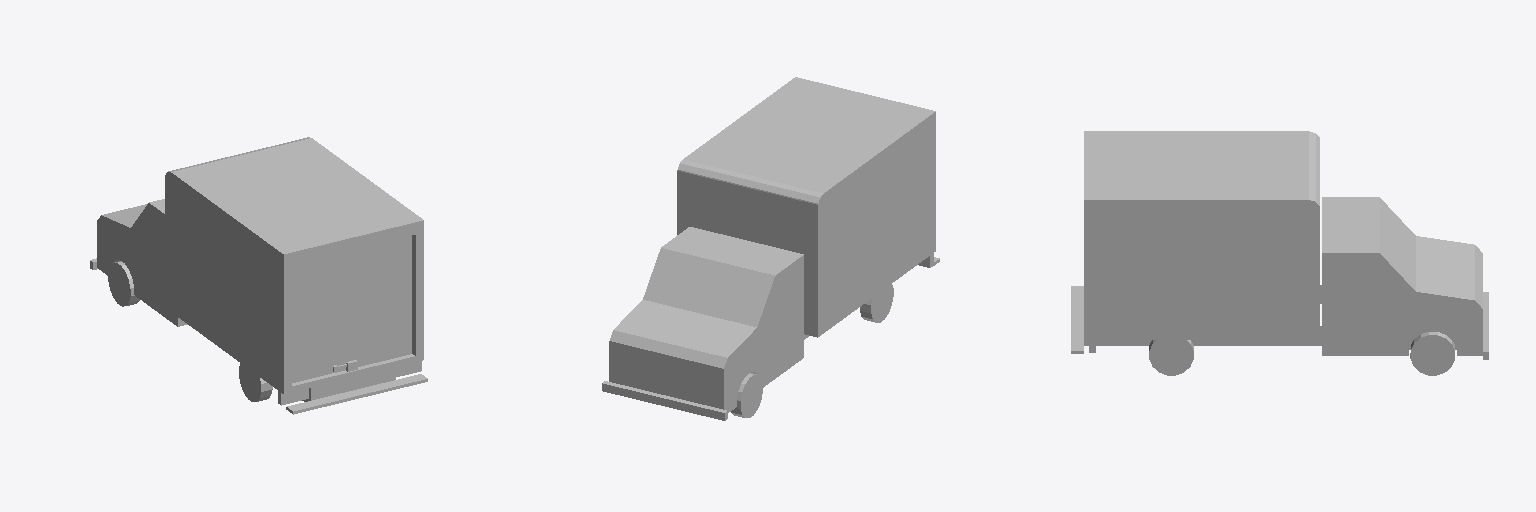
The model's file is Truck Delivery2.obj.
3 renders of one model, left to right at view 1: azimuth 30°, elevation 25°; view 2: azimuth 150°, elevation 25°; view 3: azimuth 270°, elevation 25°, orthographic.
Bounding box in the file's own units: 2.46 × 3.02 × 6.35.